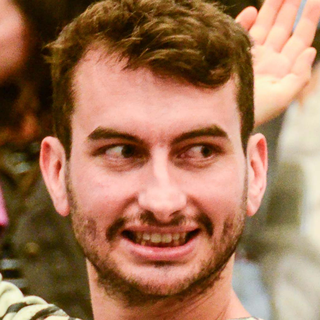eye: (96, 142, 147, 164), (174, 139, 222, 162)
